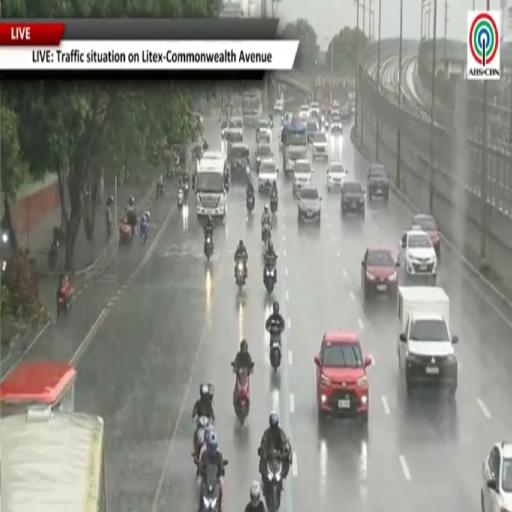bus: (0, 361, 107, 511), (0, 406, 107, 511), (0, 361, 76, 417), (195, 152, 227, 220), (282, 122, 308, 163)
car: (314, 331, 371, 422), (400, 227, 437, 284), (481, 441, 511, 511), (361, 248, 399, 298), (411, 214, 440, 259), (341, 180, 365, 218), (227, 143, 250, 181), (298, 186, 321, 223), (367, 164, 389, 201), (292, 159, 312, 195), (258, 158, 278, 191), (327, 162, 347, 191), (256, 143, 273, 172), (312, 132, 328, 159), (256, 119, 271, 142), (306, 119, 320, 142), (228, 117, 244, 134), (330, 116, 343, 134), (340, 103, 350, 120), (273, 100, 284, 115), (299, 105, 309, 121), (310, 103, 320, 117), (259, 132, 271, 143), (195, 111, 203, 125), (331, 108, 340, 119), (350, 102, 355, 116), (331, 101, 339, 109)
motorcycle: (232, 363, 253, 425), (192, 416, 211, 473), (264, 451, 282, 511), (200, 463, 221, 511), (57, 280, 73, 316), (270, 330, 281, 372), (119, 219, 134, 247), (264, 258, 276, 293), (48, 239, 59, 270), (236, 260, 246, 291), (204, 235, 213, 260), (140, 218, 148, 244), (262, 222, 270, 244), (246, 194, 255, 213), (177, 188, 184, 210), (270, 195, 278, 214), (183, 180, 189, 200), (157, 184, 165, 198), (269, 118, 273, 129)
truck: (397, 286, 458, 395), (195, 152, 227, 220), (281, 121, 308, 174), (242, 89, 262, 126)
